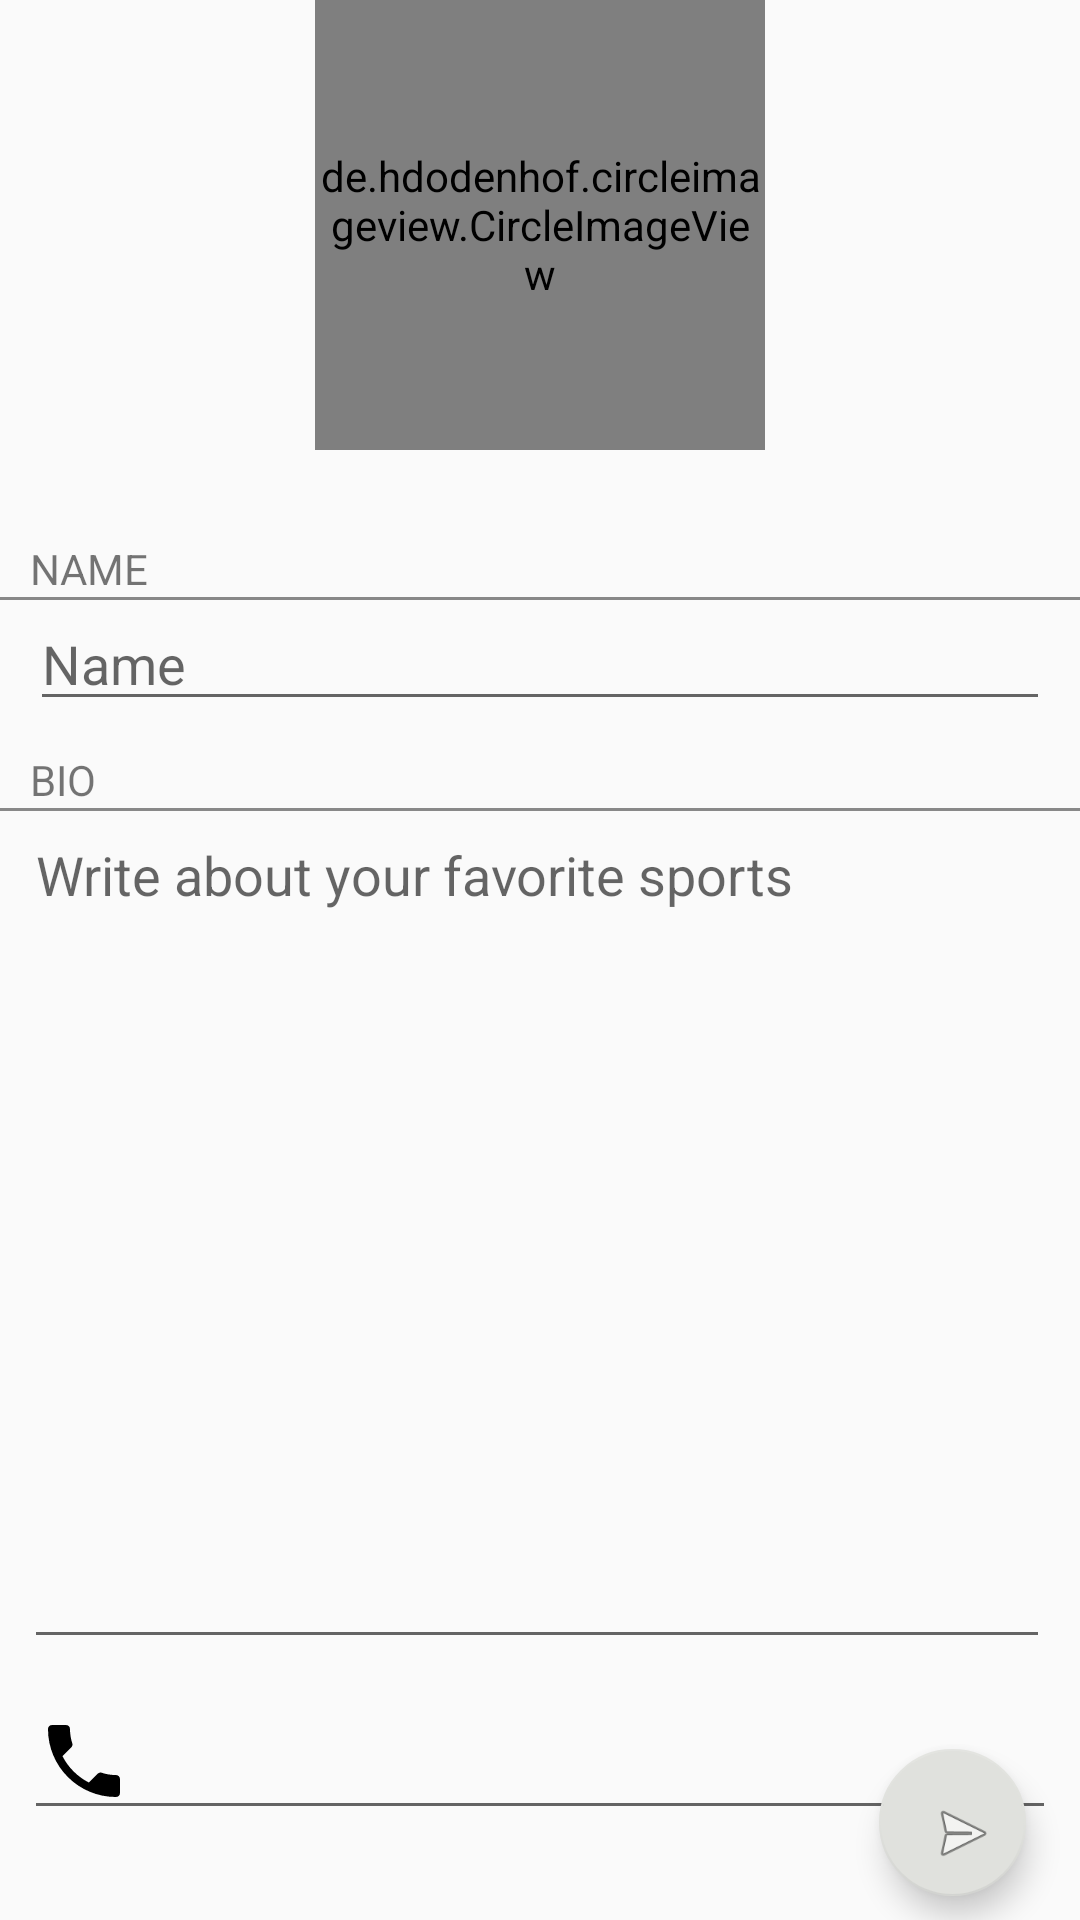

Named icons in this screenshot (1080 x 1920) and their centers, (x,y):
send: (952,1823)
